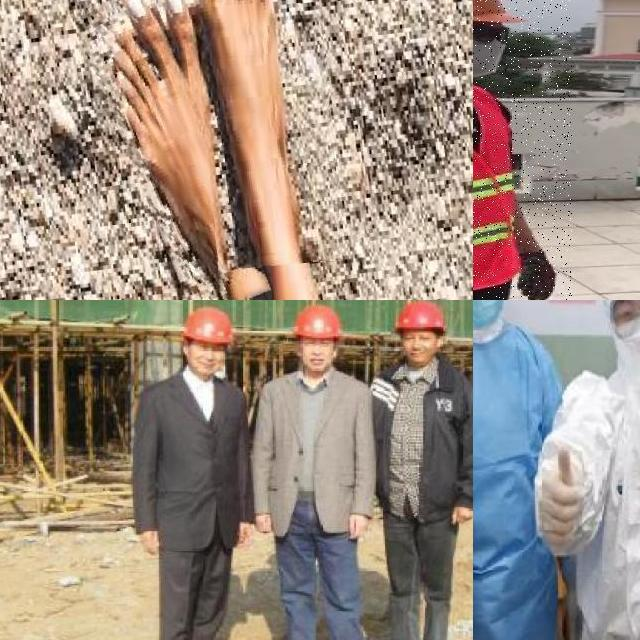Barefoots: (89, 0, 252, 300), (173, 0, 352, 272)
face_mask: (607, 300, 640, 373), (473, 300, 511, 327)
glasses: (611, 300, 640, 340)
hand_glove: (538, 446, 584, 547)
hand_noglove: (132, 523, 166, 555), (343, 509, 374, 544), (234, 517, 257, 544), (447, 503, 473, 526), (253, 510, 273, 537)
head_helmet: (178, 303, 237, 347), (290, 300, 344, 345), (392, 300, 447, 333)
person: (244, 300, 377, 640), (132, 302, 253, 640), (526, 300, 640, 640), (360, 300, 473, 640), (473, 300, 582, 640), (473, 0, 572, 300)
vest: (473, 83, 517, 291)
